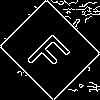F: (25, 25, 78, 79)
